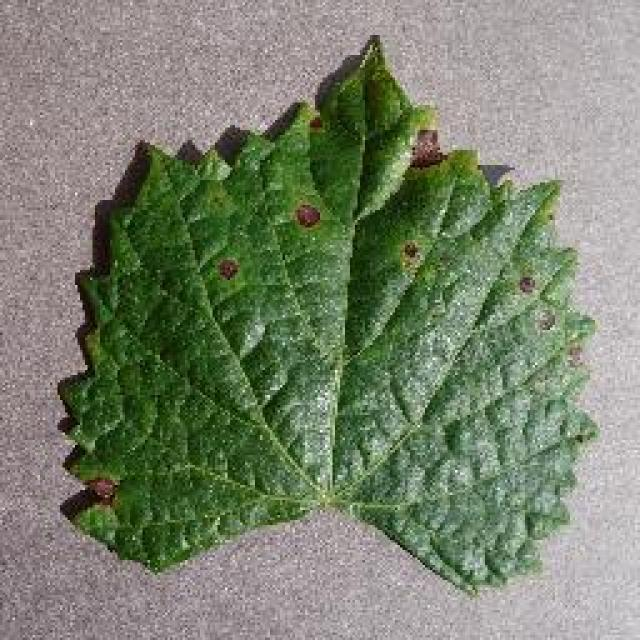Grape___Black_rot: (47, 27, 605, 603)
